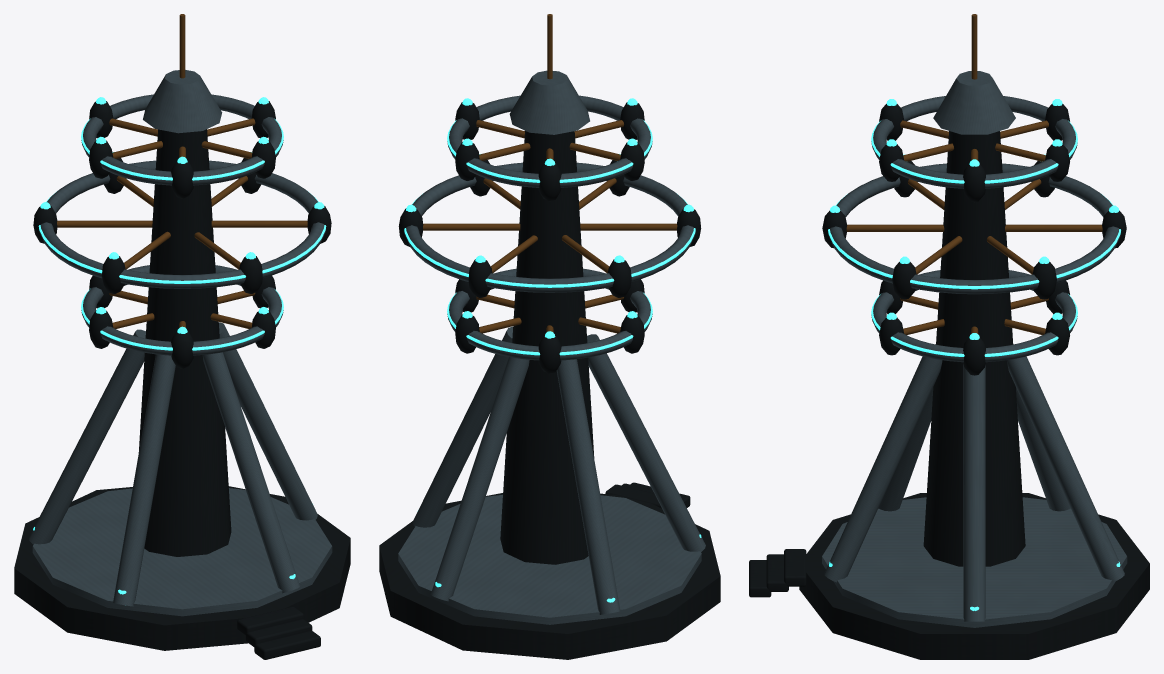
The model's file is 05_alien_watchtower_v4_array.glb.
3 renders of one model, left to right at view 1: azimuth 30°, elevation 25°; view 2: azimuth 150°, elevation 25°; view 3: azimuth 270°, elevation 25°, orthographic.
Visible parts, largest first — view 1: 05_alien_watchtower_v4_array | Tower | brushed titanium, 05_alien_watchtower_v4_array | Tower | graphite armor, 05_alien_watchtower_v4_array | Tower | oxidized bronze, 05_alien_watchtower_v4_array | Tower | cyan luminescent cera; view 2: 05_alien_watchtower_v4_array | Tower | brushed titanium, 05_alien_watchtower_v4_array | Tower | graphite armor, 05_alien_watchtower_v4_array | Tower | oxidized bronze, 05_alien_watchtower_v4_array | Tower | cyan luminescent cera; view 3: 05_alien_watchtower_v4_array | Tower | brushed titanium, 05_alien_watchtower_v4_array | Tower | graphite armor, 05_alien_watchtower_v4_array | Tower | oxidized bronze, 05_alien_watchtower_v4_array | Tower | cyan luminescent cera.
Part boxes in pixels (x1,y1,x2,y2): 05_alien_watchtower_v4_array | Tower | brushed titanium: (29, 70, 332, 616); 05_alien_watchtower_v4_array | Tower | graphite armor: (14, 101, 350, 659); 05_alien_watchtower_v4_array | Tower | oxidized bronze: (57, 14, 307, 328); 05_alien_watchtower_v4_array | Tower | cyan luminescent cera: (33, 97, 326, 594); 05_alien_watchtower_v4_array | Tower | brushed titanium: (398, 70, 705, 624); 05_alien_watchtower_v4_array | Tower | graphite armor: (379, 102, 720, 659); 05_alien_watchtower_v4_array | Tower | oxidized bronze: (423, 14, 677, 333); 05_alien_watchtower_v4_array | Tower | cyan luminescent cera: (404, 98, 701, 602); 05_alien_watchtower_v4_array | Tower | brushed titanium: (822, 71, 1127, 627); 05_alien_watchtower_v4_array | Tower | graphite armor: (749, 104, 1149, 659); 05_alien_watchtower_v4_array | Tower | oxidized bronze: (846, 14, 1102, 334); 05_alien_watchtower_v4_array | Tower | cyan luminescent cera: (828, 99, 1120, 610).
Bounding box in the file's own units: 4.18 × 7.95 × 5.03.
4 materials, 3 textured.
